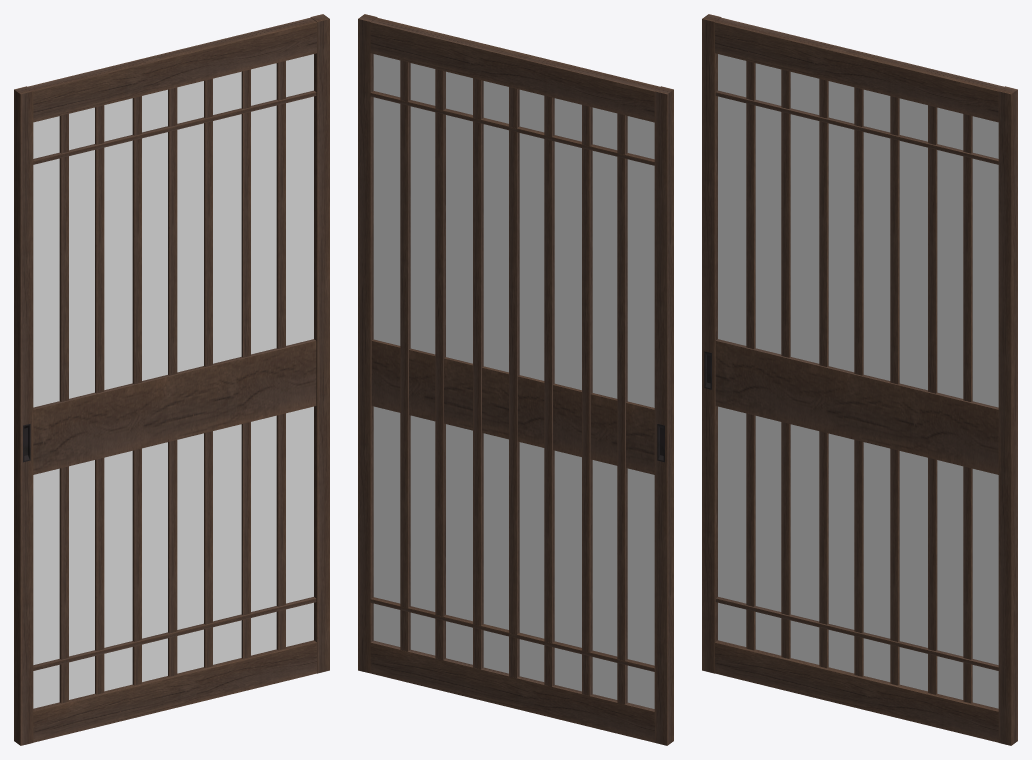
The model's file is hikido05ar.fbx.
3 renders of one model, left to right at view 1: azimuth 30°, elevation 25°; view 2: azimuth 150°, elevation 25°; view 3: azimuth 330°, elevation 25°, orthographic.
Parts seen in each view (by area): view 1: hikido05ar; view 2: hikido05ar; view 3: hikido05ar.
Boxes of the visible parts, x1,y1,x2,y2 form: hikido05ar: (14, 14, 329, 745); hikido05ar: (358, 14, 673, 745); hikido05ar: (702, 14, 1017, 745).
Bounding box in the file's own units: 110 × 221 × 4.25.
